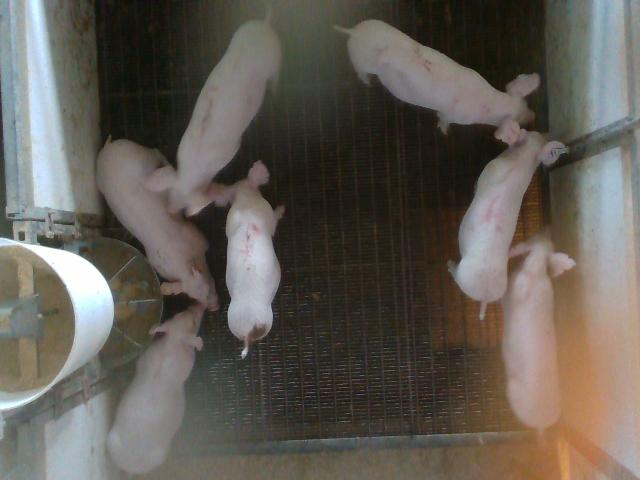pig-3: (146, 15, 281, 216)
pig-4: (450, 118, 565, 319)
pig-5: (210, 161, 285, 358)
